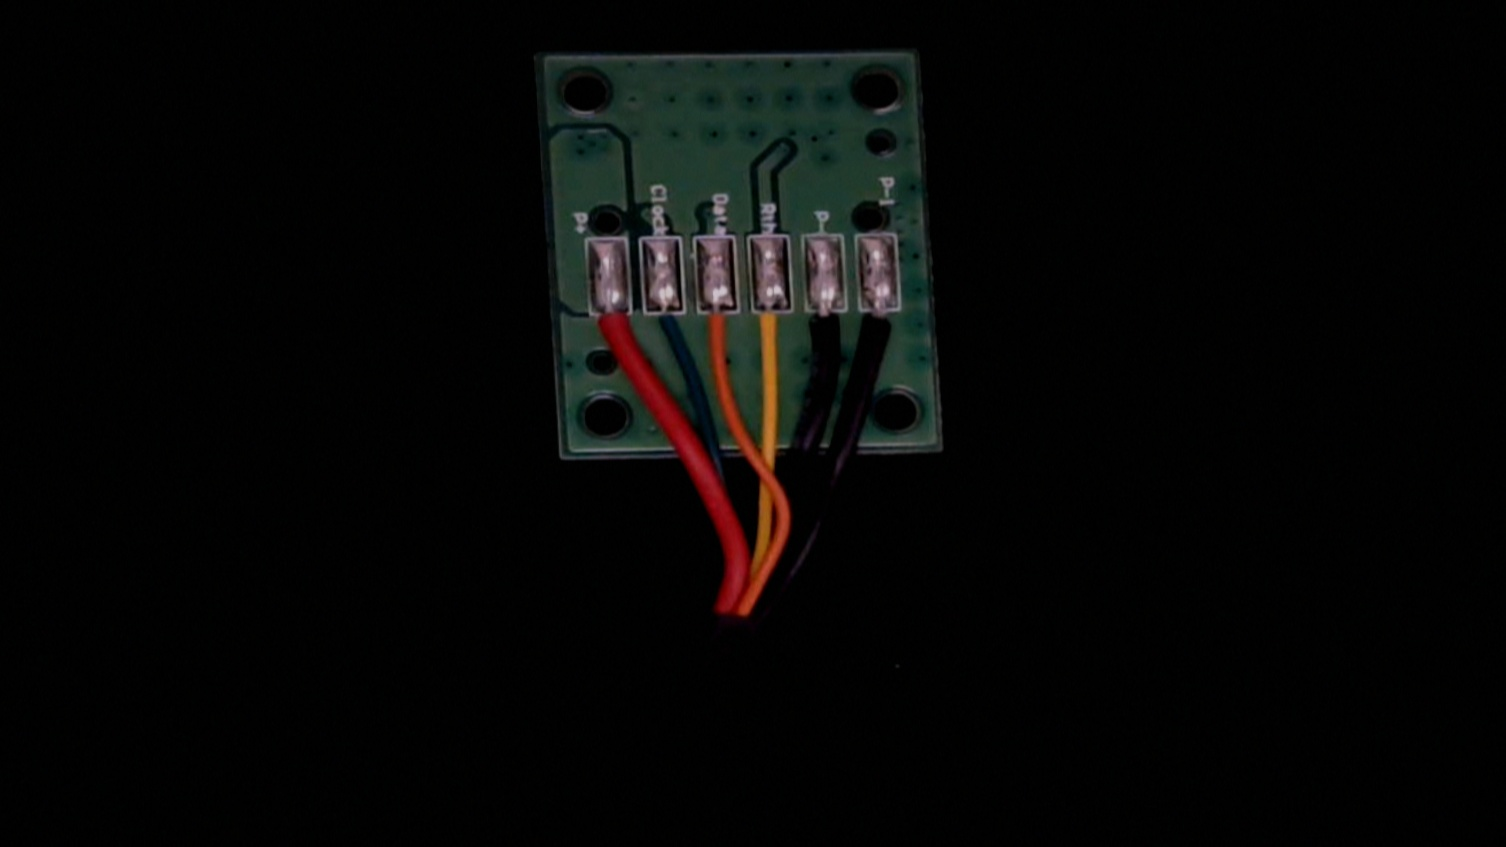Black: (805, 292, 847, 369)
Black1: (860, 293, 901, 370)
Green: (642, 286, 688, 367)
Orange: (698, 292, 741, 370)
Red: (590, 290, 633, 367)
Yellow: (753, 291, 792, 374)
